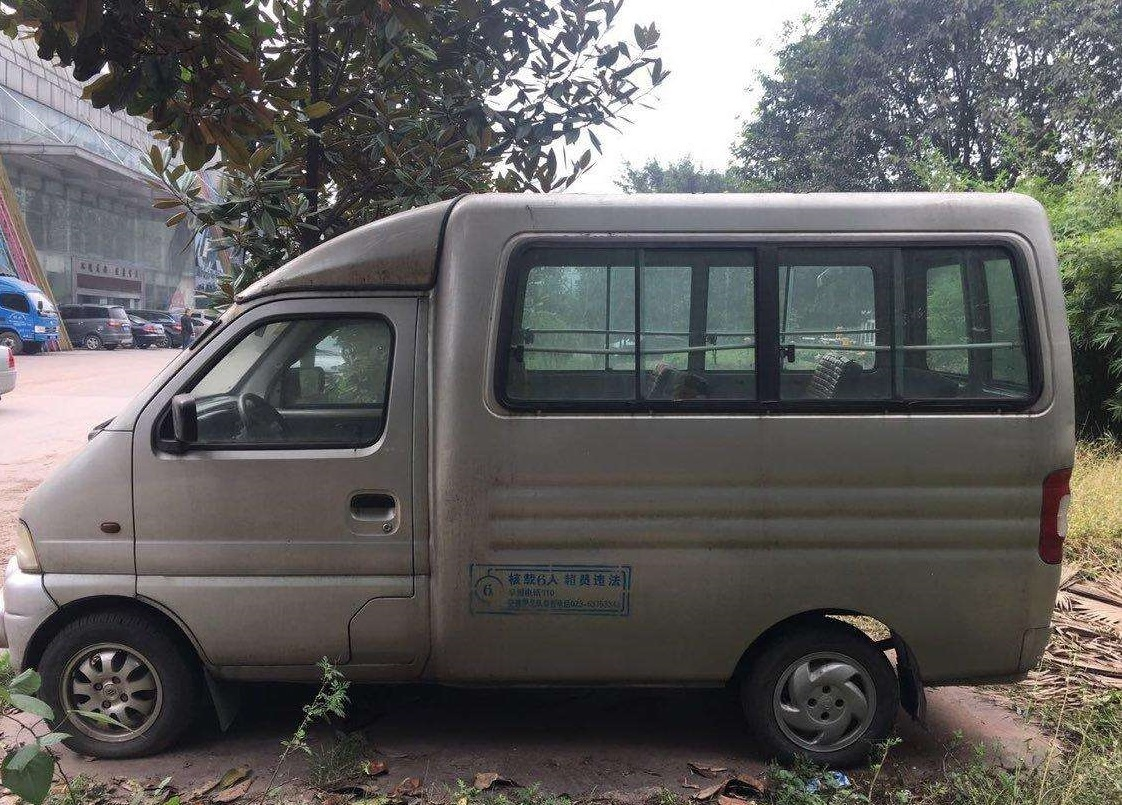minibus: (36, 187, 1077, 755)
